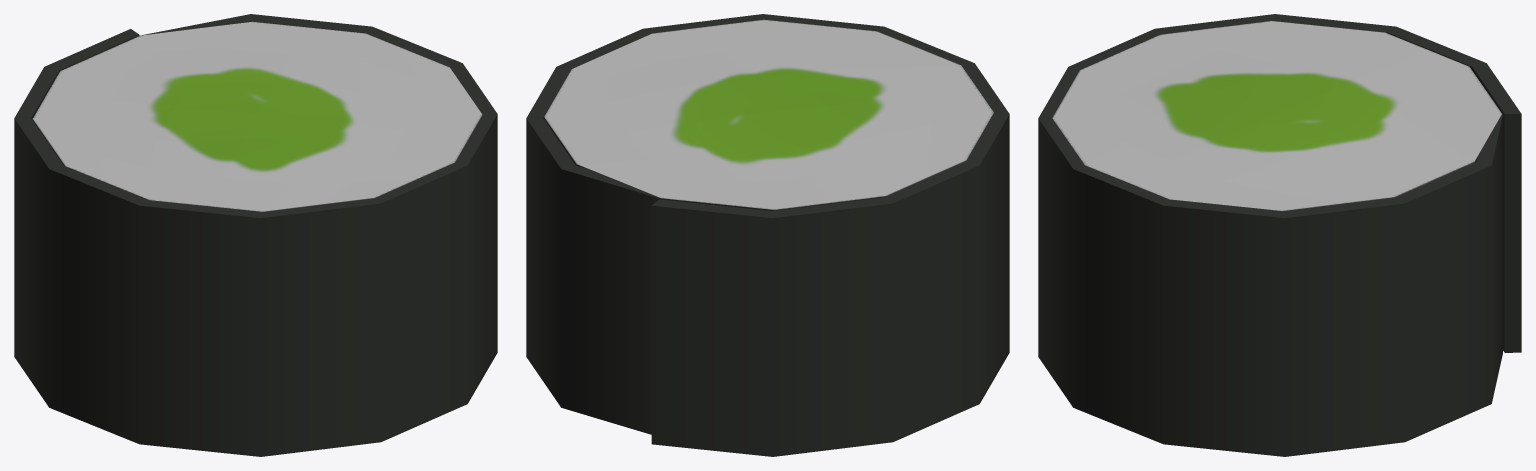
The model's file is Salatalık Hosomaki.fbx.
3 views of the same model, side by side, from view 1: azimuth 30°, elevation 25°; view 2: azimuth 150°, elevation 25°; view 3: azimuth 270°, elevation 25° (orthographic).
Parts seen in each view (by area): view 1: Salatalık Hosomaki; view 2: Salatalık Hosomaki; view 3: Salatalık Hosomaki.
Part boxes in pixels (x1,y1,x2,y2): Salatalık Hosomaki: [14, 14, 497, 456]; Salatalık Hosomaki: [526, 14, 1009, 456]; Salatalık Hosomaki: [1038, 14, 1521, 456].
Size of the model in its own units: 191 by 105 by 191.
